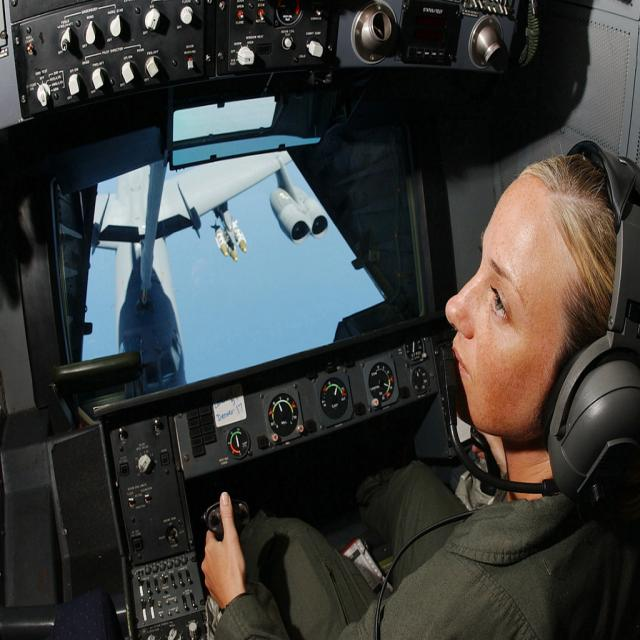MIL_Plane: (91, 0, 328, 207)
